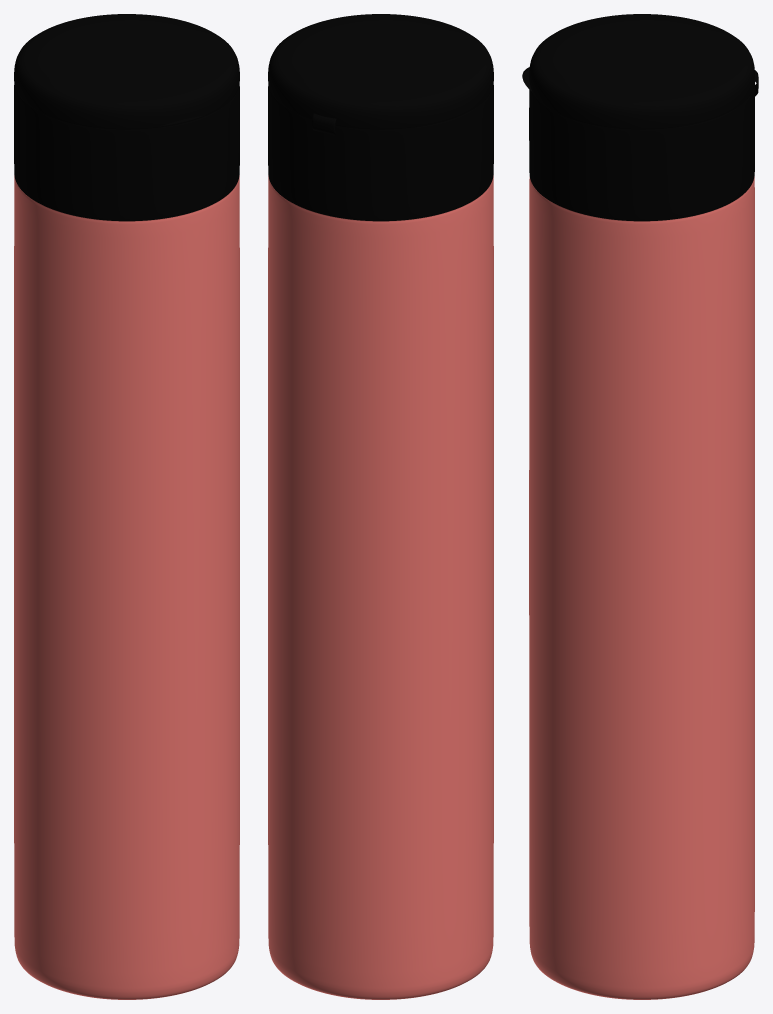
File: uploads_files_3279091_Plastic_Bottle_5.fbx
3 views of the same model, side by side, from view 1: azimuth 30°, elevation 25°; view 2: azimuth 150°, elevation 25°; view 3: azimuth 270°, elevation 25° (orthographic).
Visible parts, largest first — view 1: Bottle_5; view 2: Bottle_5; view 3: Bottle_5.
Part boxes in pixels (x1,y1,x2,y2): Bottle_5: (14, 14, 239, 999); Bottle_5: (268, 14, 493, 999); Bottle_5: (522, 14, 758, 999).
Bounding box in the file's own units: 113 × 497 × 118.
Materials: 2 (2 with a texture image).
